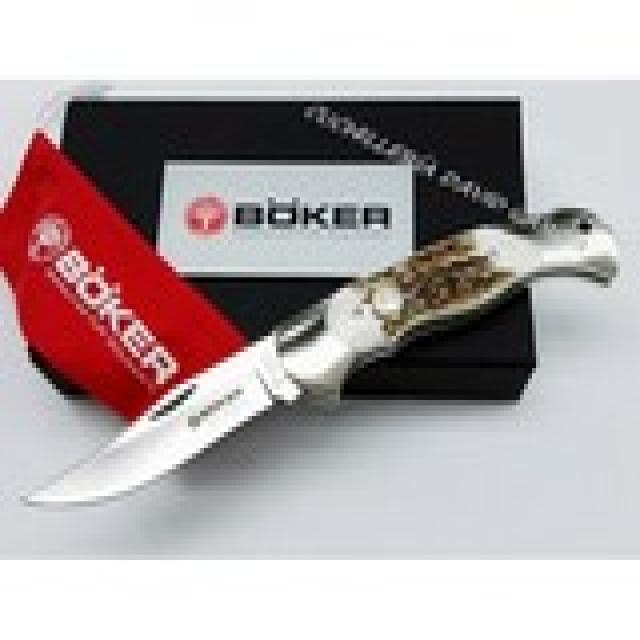Knife: (16, 190, 621, 513)
